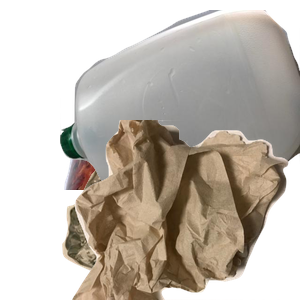glass: (60, 120, 300, 300)
metal: (62, 47, 300, 227)
plastic: (60, 10, 300, 190)
trash: (70, 120, 300, 300)
